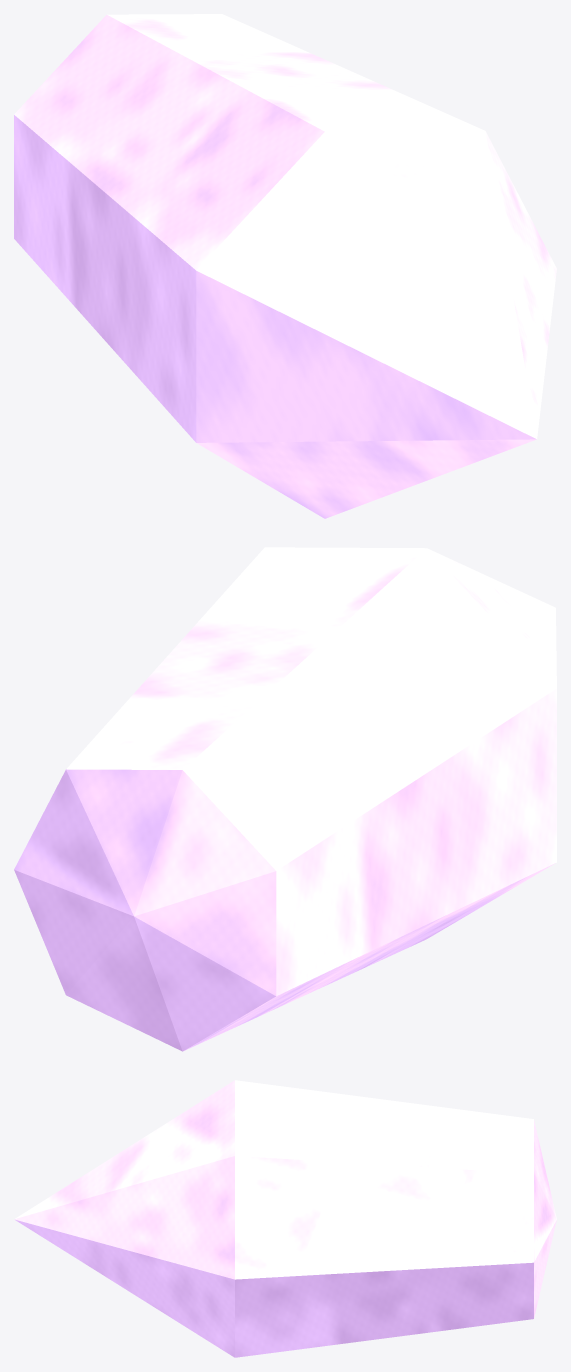
The model's file is sentinel-ammo-seidr.glb.
The picture shows the model from 3 angles, top to bottom: view 1: azimuth 30°, elevation 25°; view 2: azimuth 150°, elevation 25°; view 3: azimuth 270°, elevation 25°; orthographic projection. The views are drawn at different scales.
Visible parts, largest first — view 1: loaded-rough-crystal; view 2: loaded-rough-crystal; view 3: loaded-rough-crystal.
Boxes of the visible parts, x1,y1,x2,y2 form: loaded-rough-crystal: [14, 14, 556, 518]; loaded-rough-crystal: [14, 547, 556, 1051]; loaded-rough-crystal: [14, 1080, 556, 1357].
Size of the model in its own units: 0.2471 by 0.2535 by 0.4956.
Materials: 1 (1 with a texture image).
